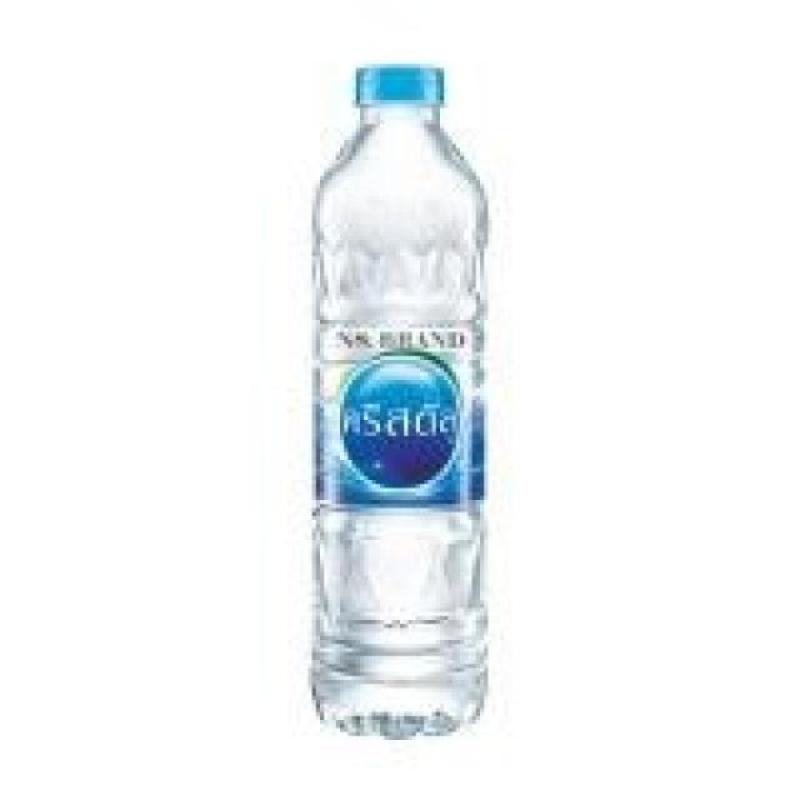botella: (311, 64, 489, 741)
